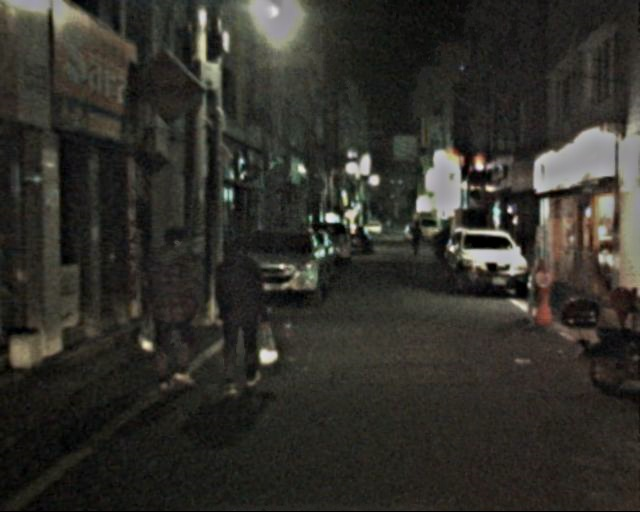person: (138, 224, 209, 394), (206, 234, 272, 395), (408, 221, 423, 258)
